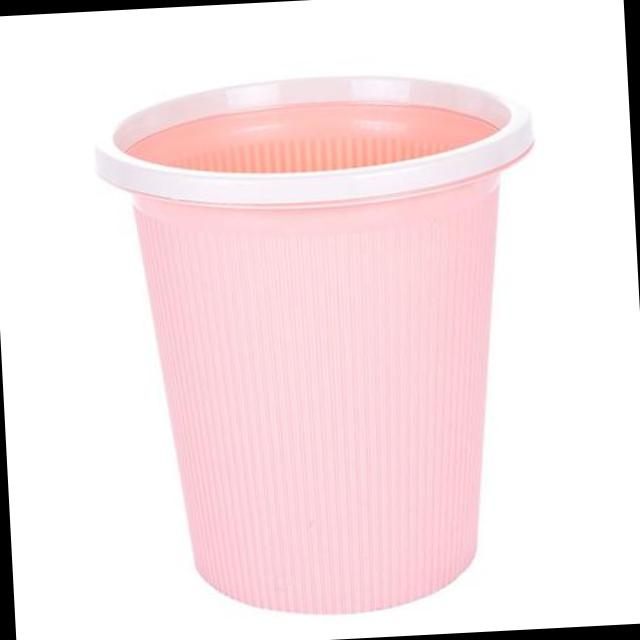dustbin: (79, 51, 567, 630)
